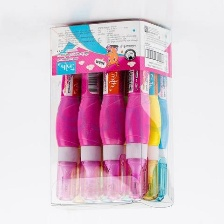correction_fluid: (95, 23, 127, 202), (73, 25, 103, 202), (52, 30, 81, 203), (121, 24, 148, 202), (141, 29, 162, 200), (152, 30, 169, 204)
plastic_box: (44, 16, 175, 213)
